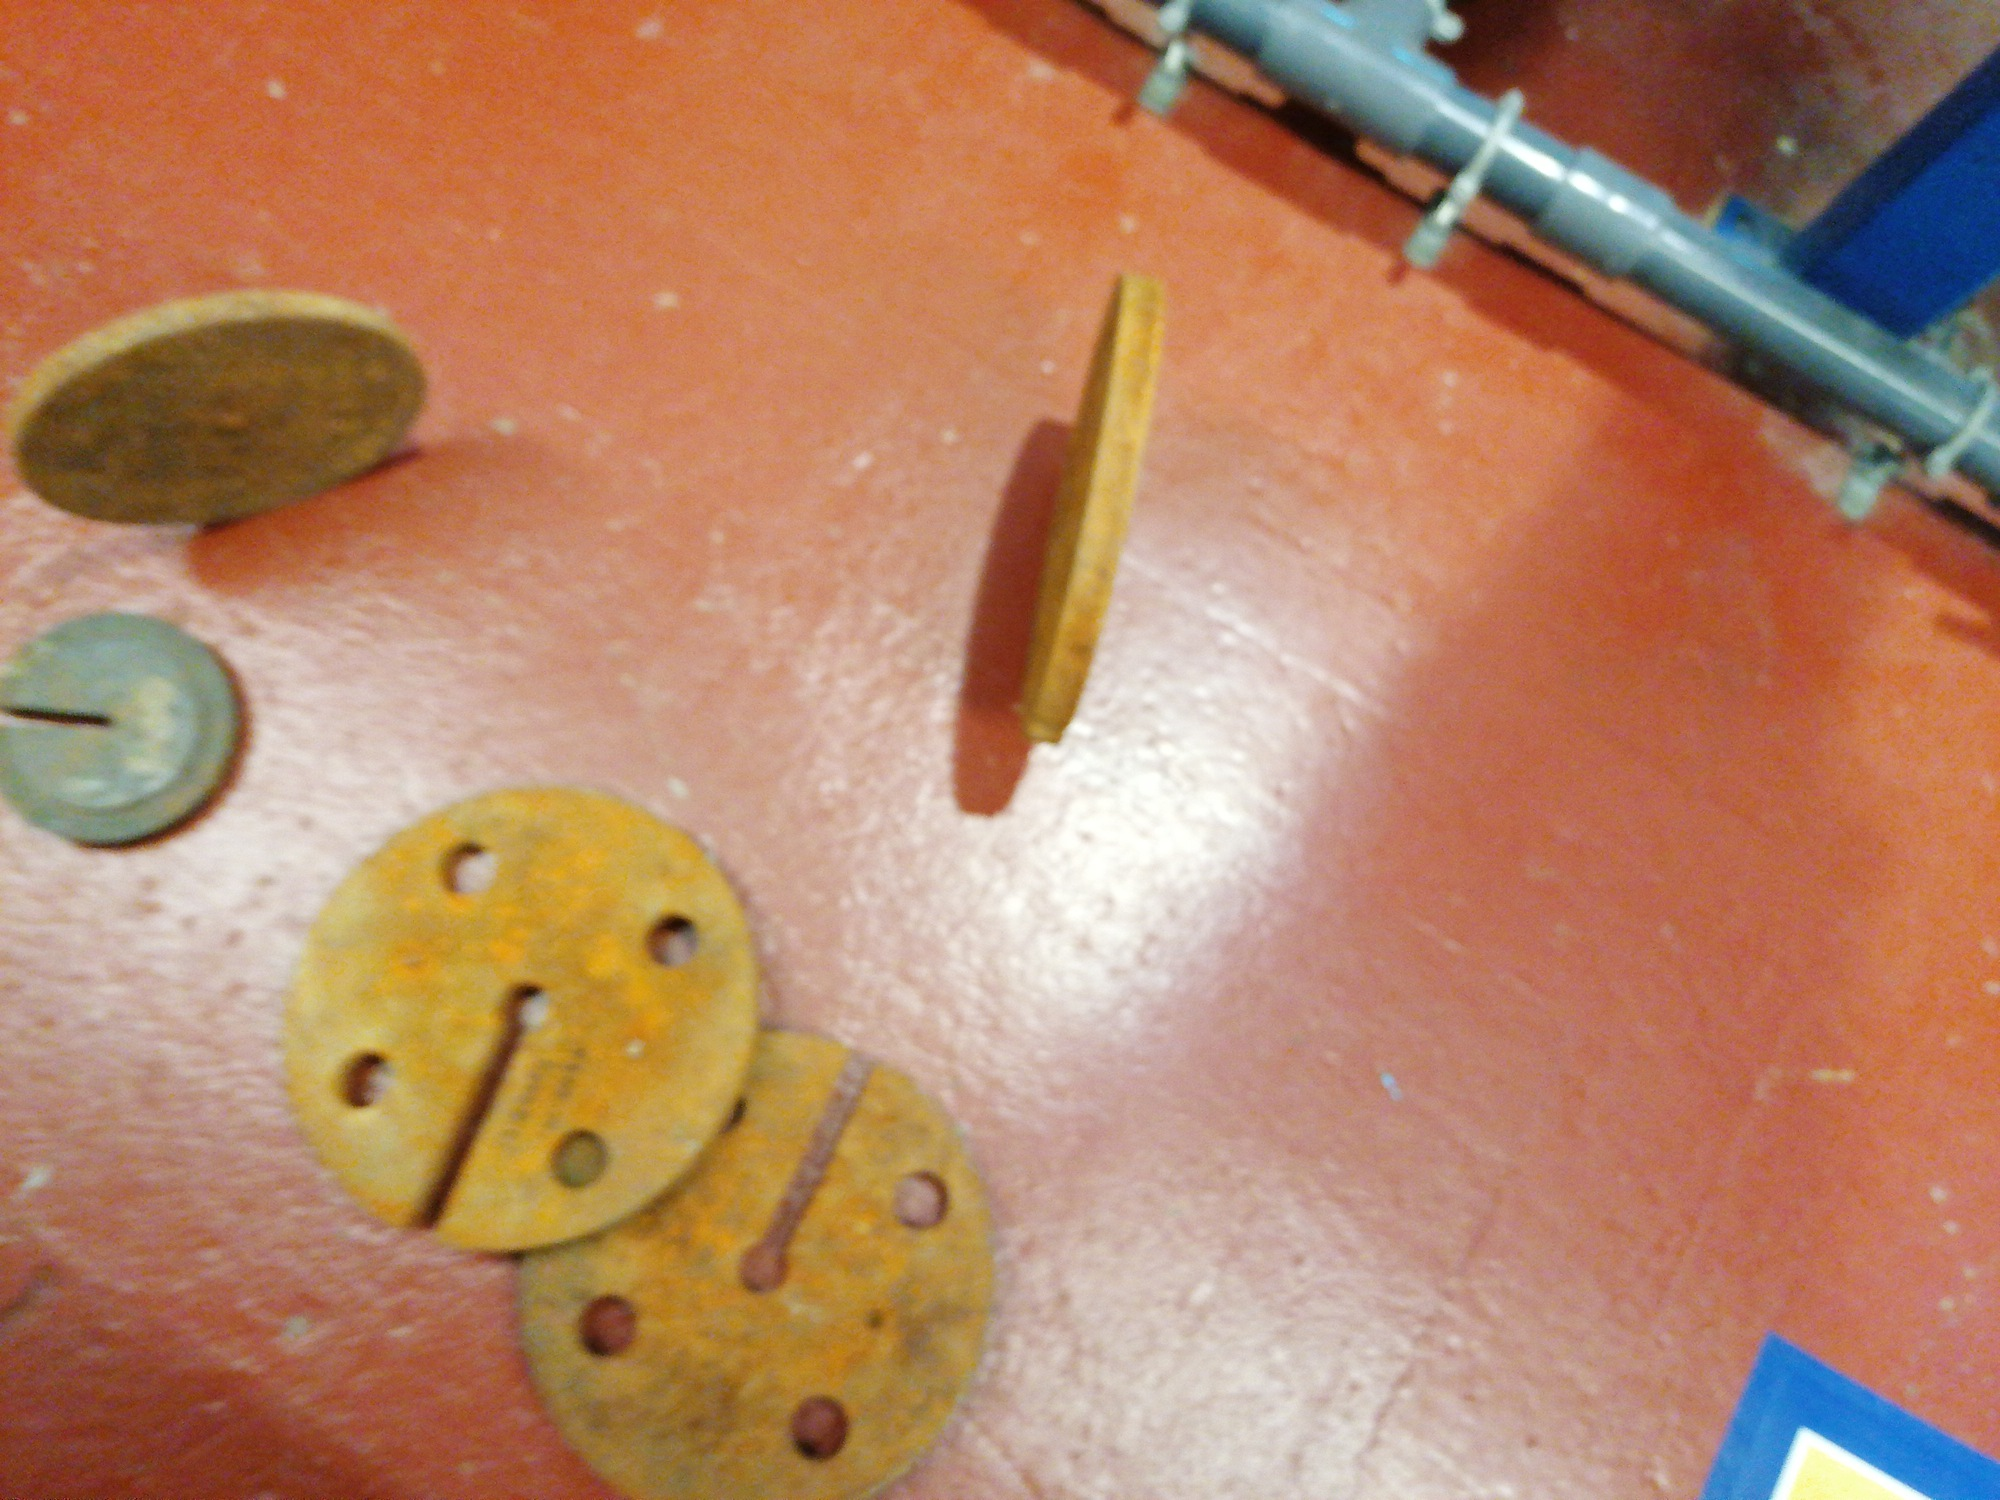flange: (513, 1024, 995, 1500), (282, 785, 761, 1253), (9, 280, 431, 529), (1017, 268, 1173, 745), (0, 608, 246, 848)
